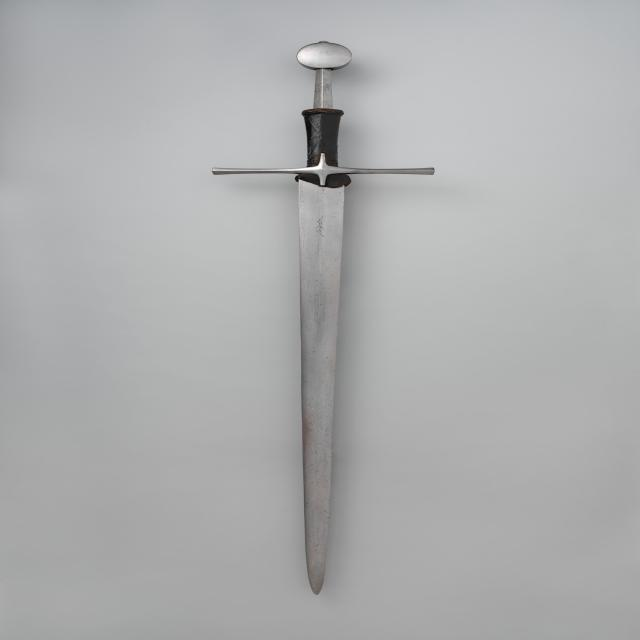weapon: (202, 38, 440, 600)
